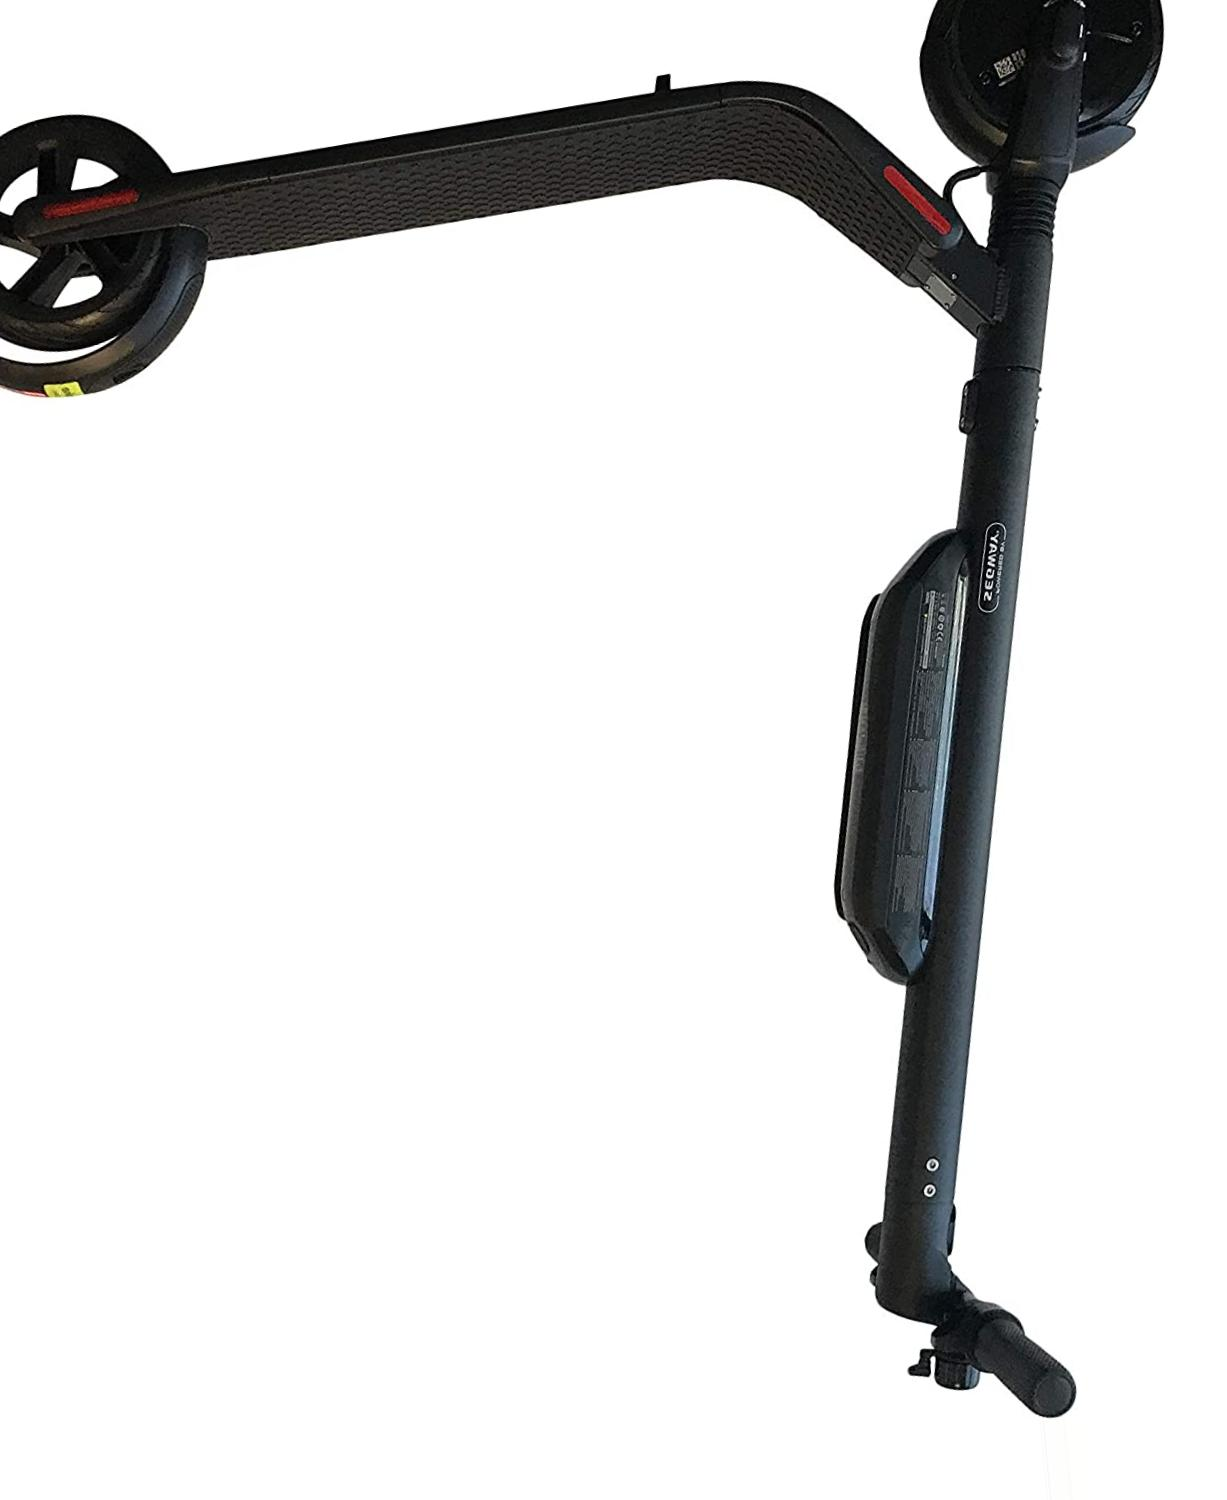scooter: (1, 1, 1166, 1420)
